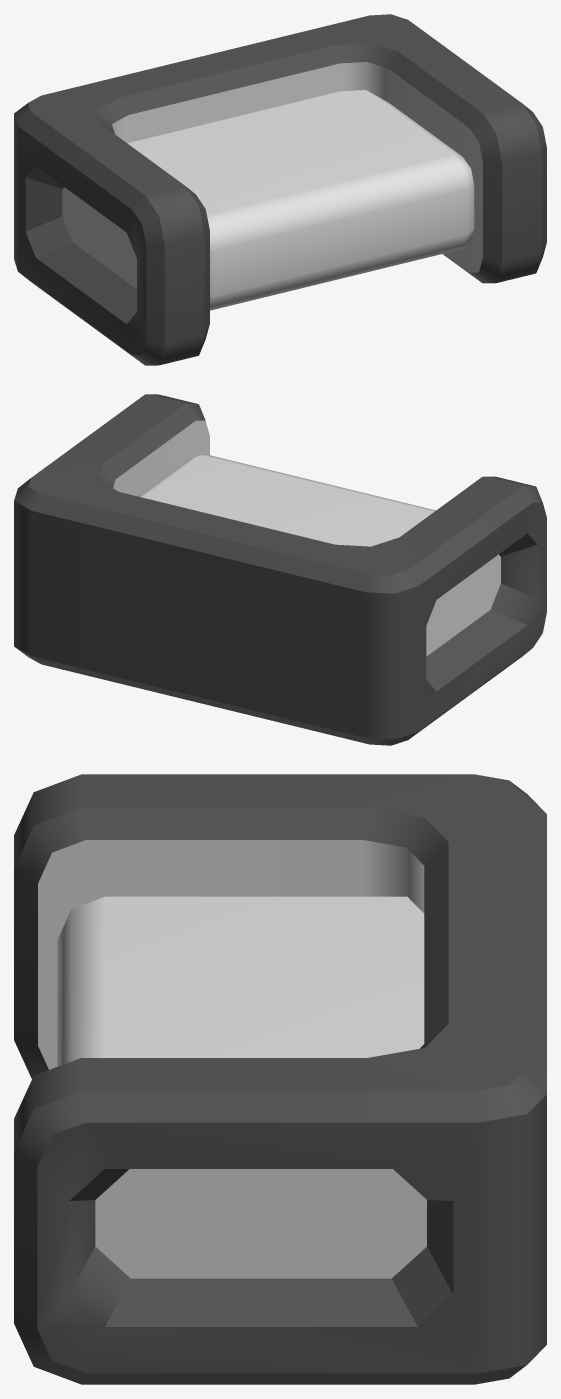
File: Mini_sofa_007.glb
3 renders of one model, top to bottom at view 1: azimuth 30°, elevation 25°; view 2: azimuth 150°, elevation 25°; view 3: azimuth 270°, elevation 25°, orthographic. The views are drawn at different scales.
Visible parts, largest first — view 1: Mini_sofa_007; view 2: Mini_sofa_007; view 3: Mini_sofa_007.
Boxes of the visible parts, bbox=[...] form: Mini_sofa_007: bbox=[14, 14, 546, 365]; Mini_sofa_007: bbox=[14, 394, 546, 745]; Mini_sofa_007: bbox=[14, 774, 546, 1384].
Size of the model in its own units: 1.28 by 0.5187 by 0.8546.
Materials: 1 (1 with a texture image).
